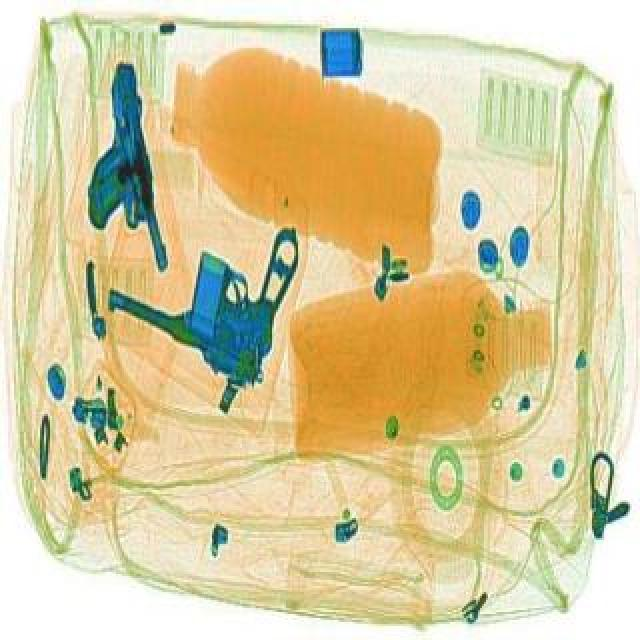gun: (92, 168, 332, 388), (72, 56, 164, 272)
